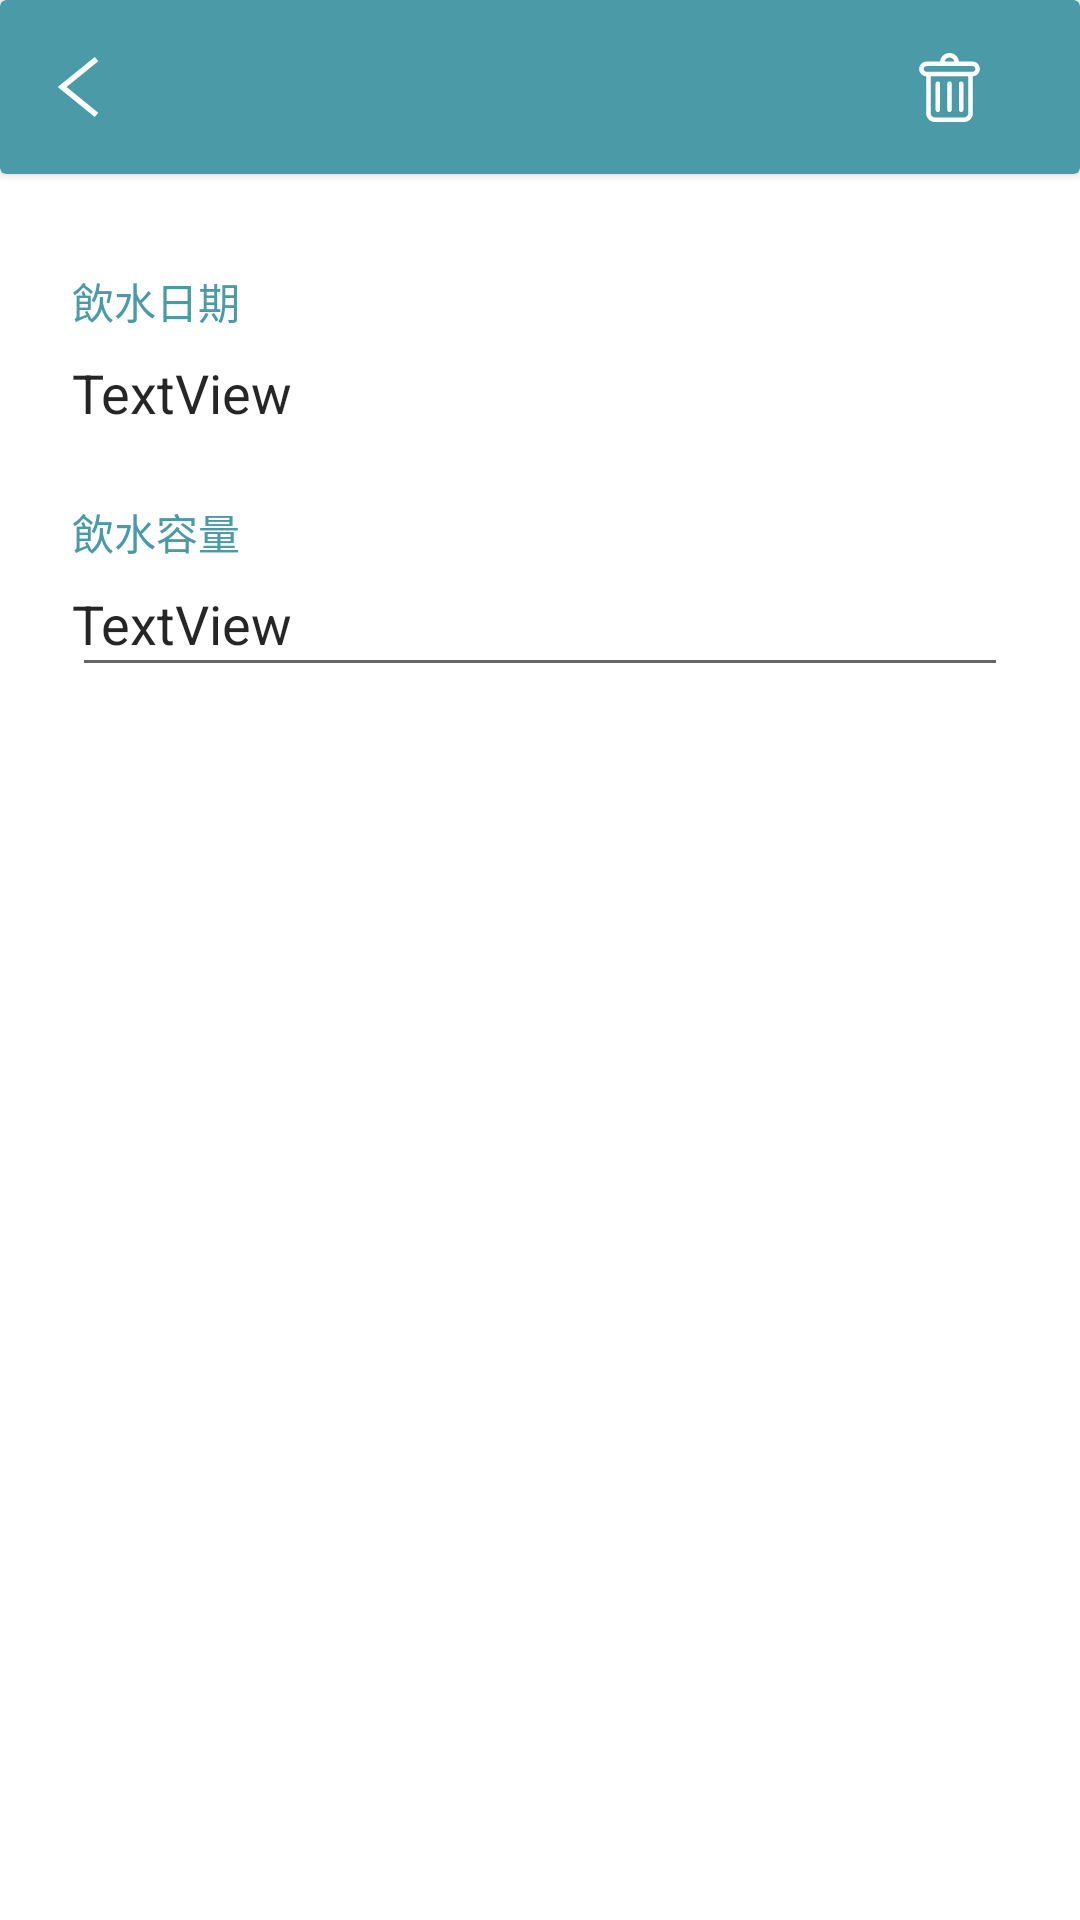

Icon click points for this 1080w x 1920h phone screenshot, format point (x, y):
delete: point (949, 87)
left arrow: point (78, 87)
